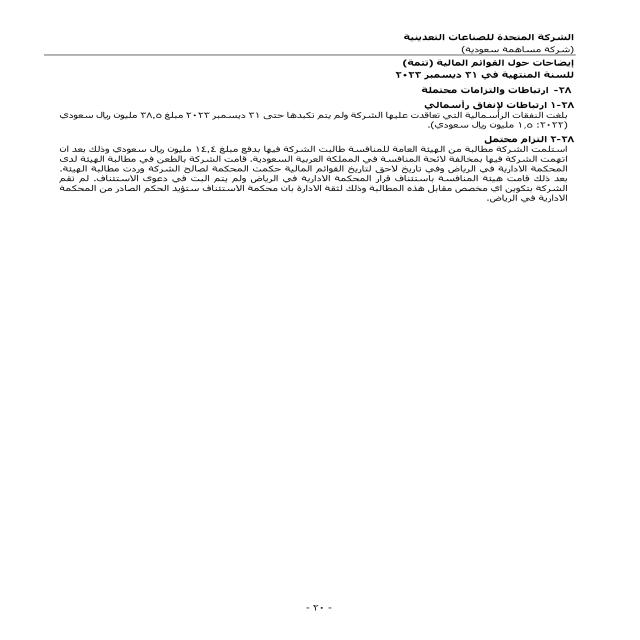notes: (395, 57, 614, 72)
text: (49, 90, 581, 230)
